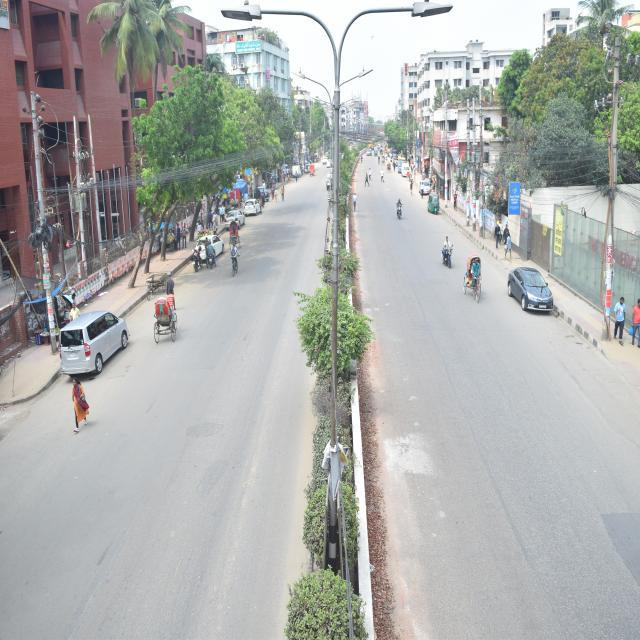car: (33, 271, 168, 390), (494, 257, 594, 347), (194, 219, 241, 273), (309, 159, 344, 205), (223, 202, 259, 245), (245, 185, 270, 232), (417, 175, 441, 212), (257, 173, 278, 209), (397, 157, 417, 184), (362, 146, 378, 163)
motorbike: (424, 226, 471, 291), (391, 189, 428, 244), (202, 234, 220, 266)
pickup-van: (290, 158, 304, 183)
